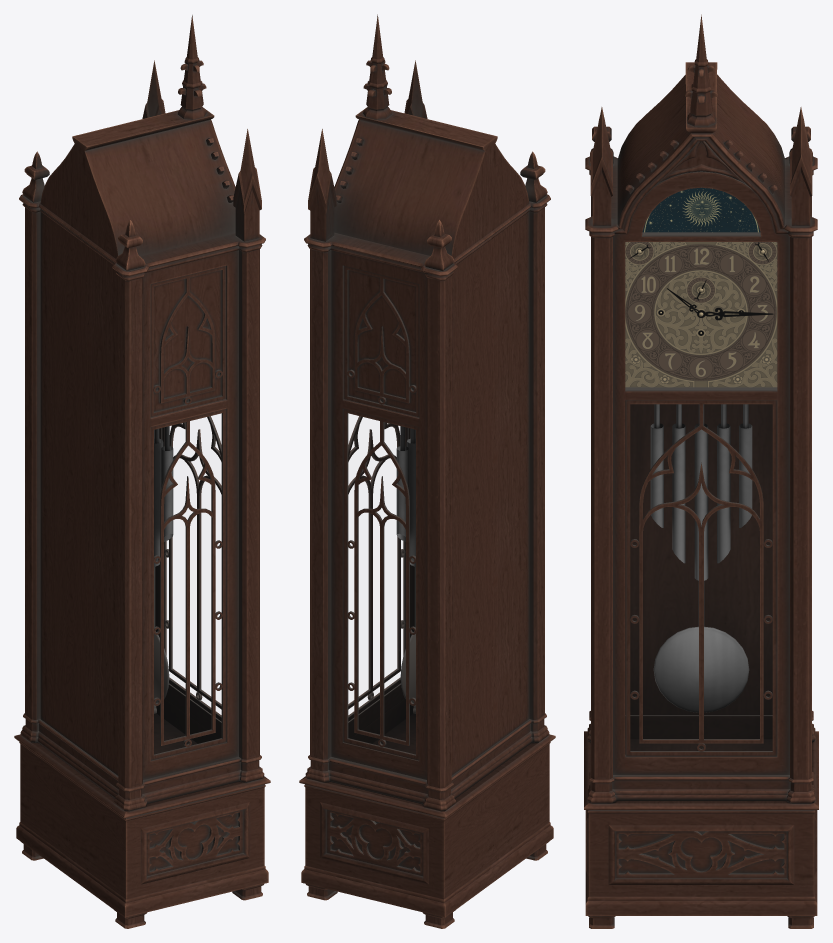
File: grandfather_clock.gltf
The picture shows the model from 3 angles, left to right: view 1: azimuth 30°, elevation 25°; view 2: azimuth 150°, elevation 25°; view 3: azimuth 270°, elevation 25°; orthographic projection. The views are drawn at different scales.
Parts seen in each view (by area): view 1: ClockCase; view 2: ClockCase; view 3: ClockCase, Clockface, MoonDial.
Part boxes in pixels (left/top/right/bottom): ClockCase: left=14, top=15, right=270, bottom=928; ClockCase: left=299, top=14, right=555, bottom=928; ClockCase: left=584, top=14, right=818, bottom=928; Clockface: left=625, top=242, right=777, bottom=387; MoonDial: left=642, top=187, right=760, bottom=232.
Bounding box in the file's own units: 47.48 × 263 × 61.93.
4 materials, 3 textured.
